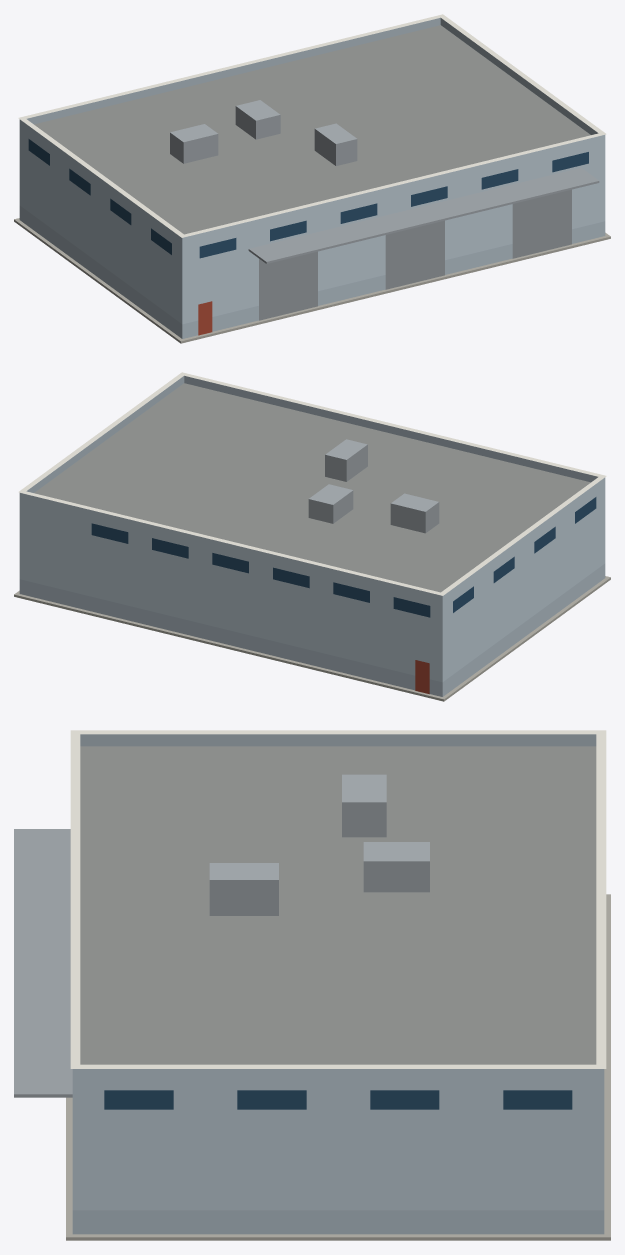
The model's file is hall_30x20_lod1.glb.
3 renders of one model, top to bottom at view 1: azimuth 30°, elevation 25°; view 2: azimuth 150°, elevation 25°; view 3: azimuth 270°, elevation 25°, orthographic. The views are drawn at different scales.
Visible parts, largest first — view 1: block; view 2: block; view 3: block.
Part boxes in pixels (x1,y1,x2,y2): block: (14, 14, 610, 343); block: (14, 372, 610, 701); block: (14, 730, 610, 1240).
Bounding box in the file's own units: 30.5 × 8.05 × 22.45.
